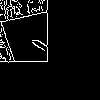X: (25, 24, 81, 77)
